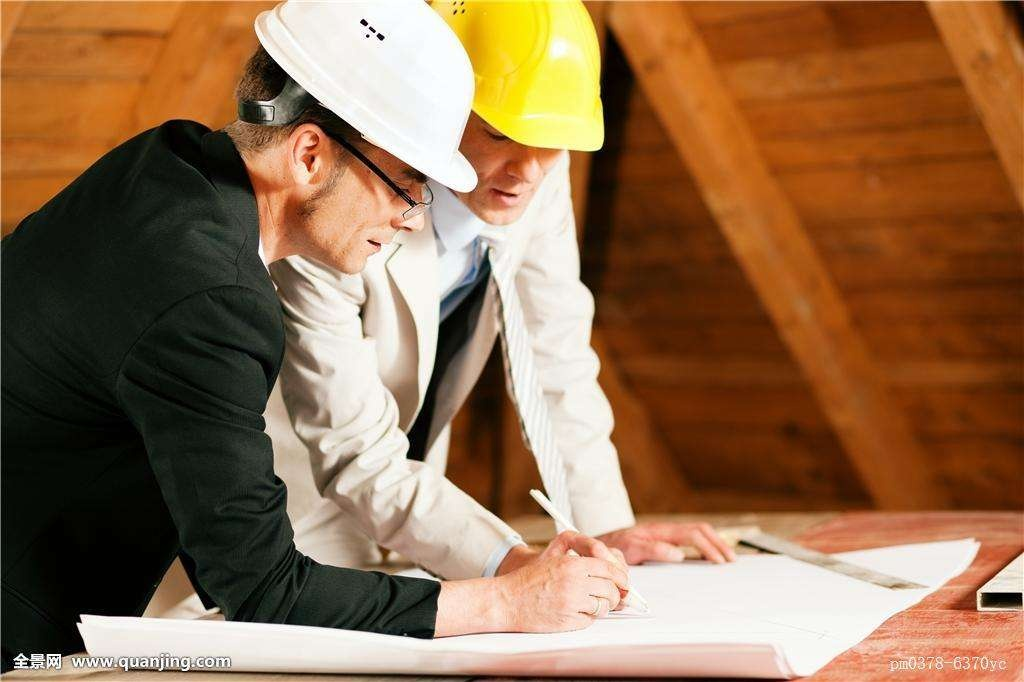white: (224, 4, 474, 288)
yellow: (423, 1, 610, 237)
